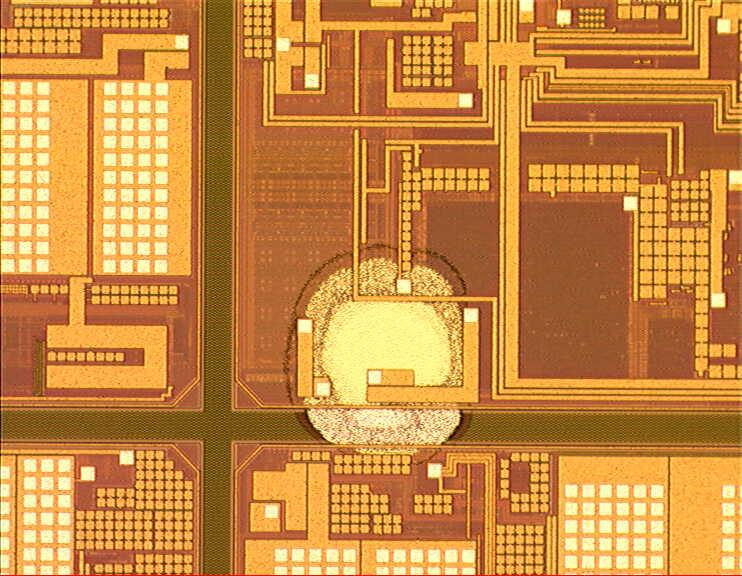BLOCK ETCH: (278, 239, 481, 483)
